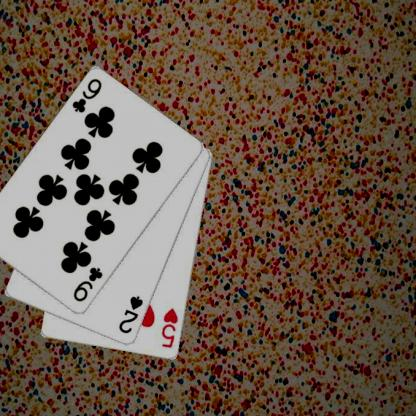2S: (116, 293, 144, 335)
5H: (159, 306, 180, 349)
9C: (69, 76, 103, 115), (71, 264, 104, 304)
